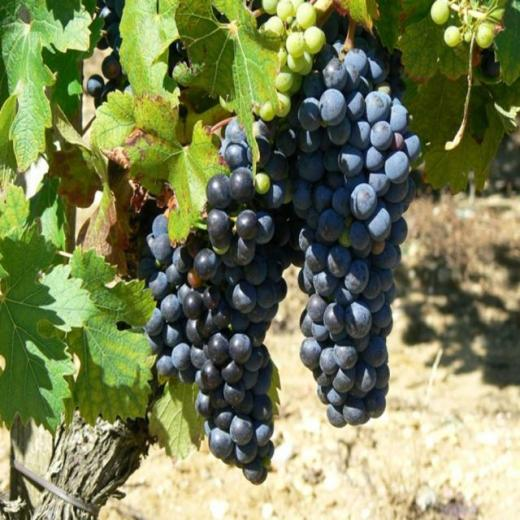Orange: (136, 0, 418, 484), (86, 0, 128, 110), (476, 21, 495, 48), (431, 0, 450, 24), (445, 26, 459, 44)
